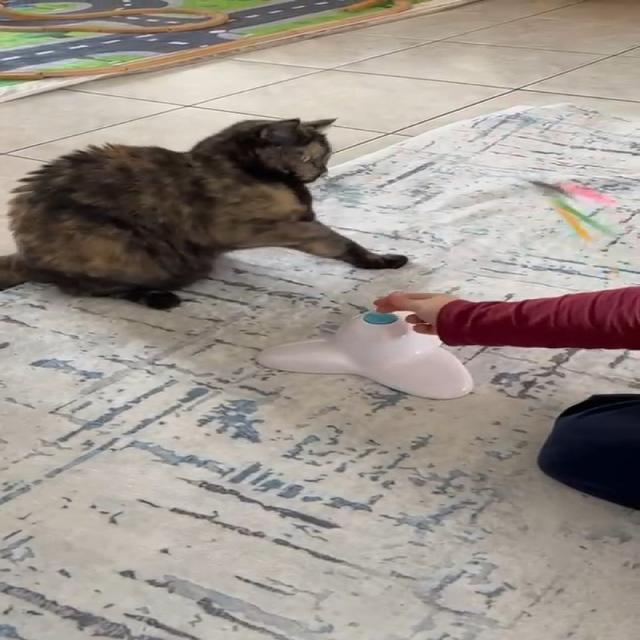authorized: (0, 115, 408, 311)
